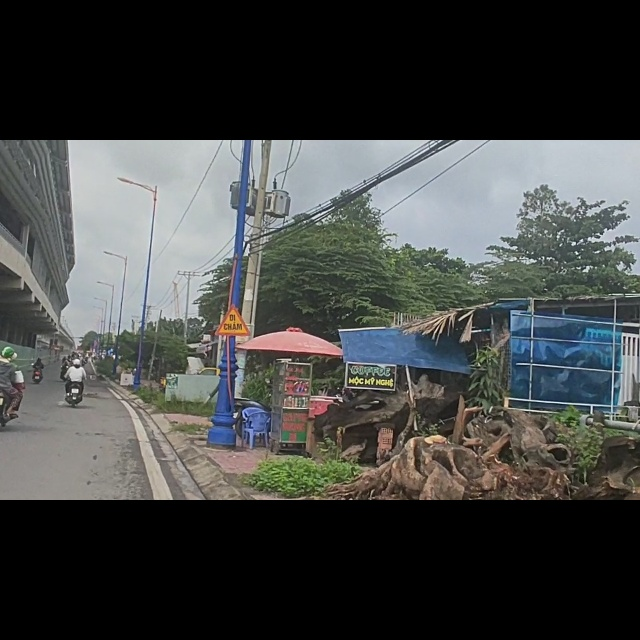bien_nguy_hiem: (216, 290, 251, 351)
